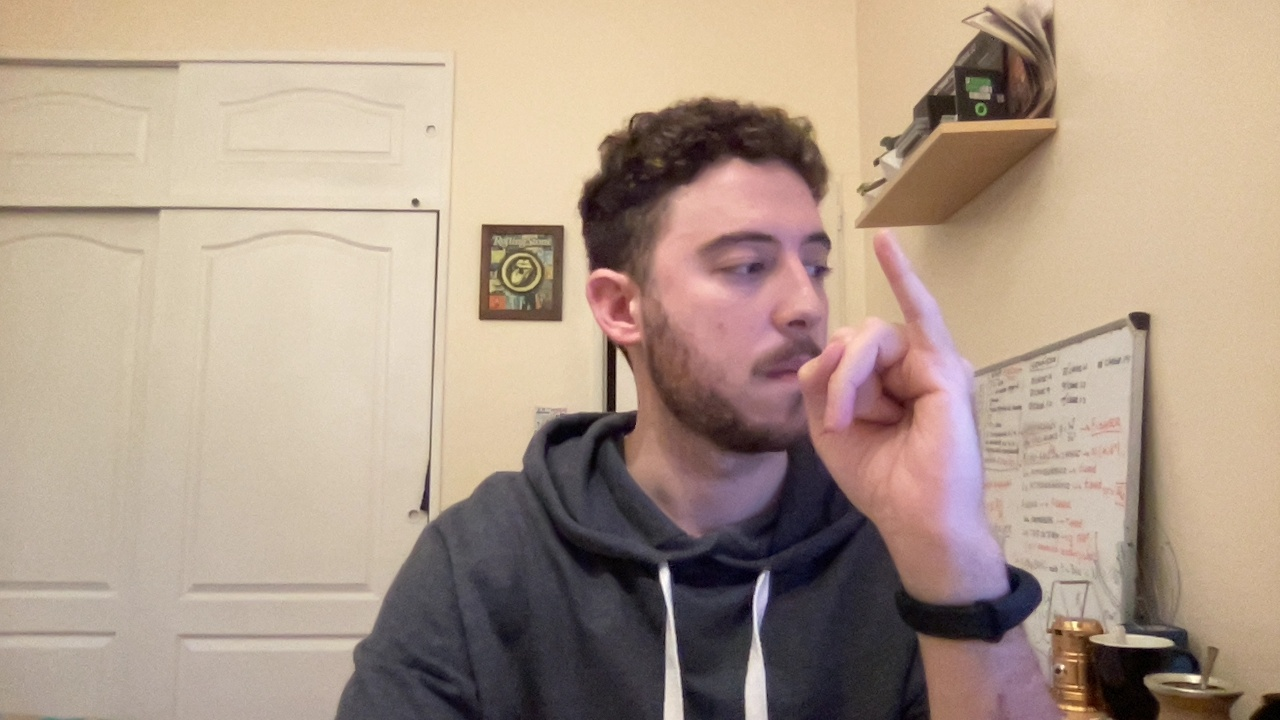menique: (779, 221, 1012, 525)
